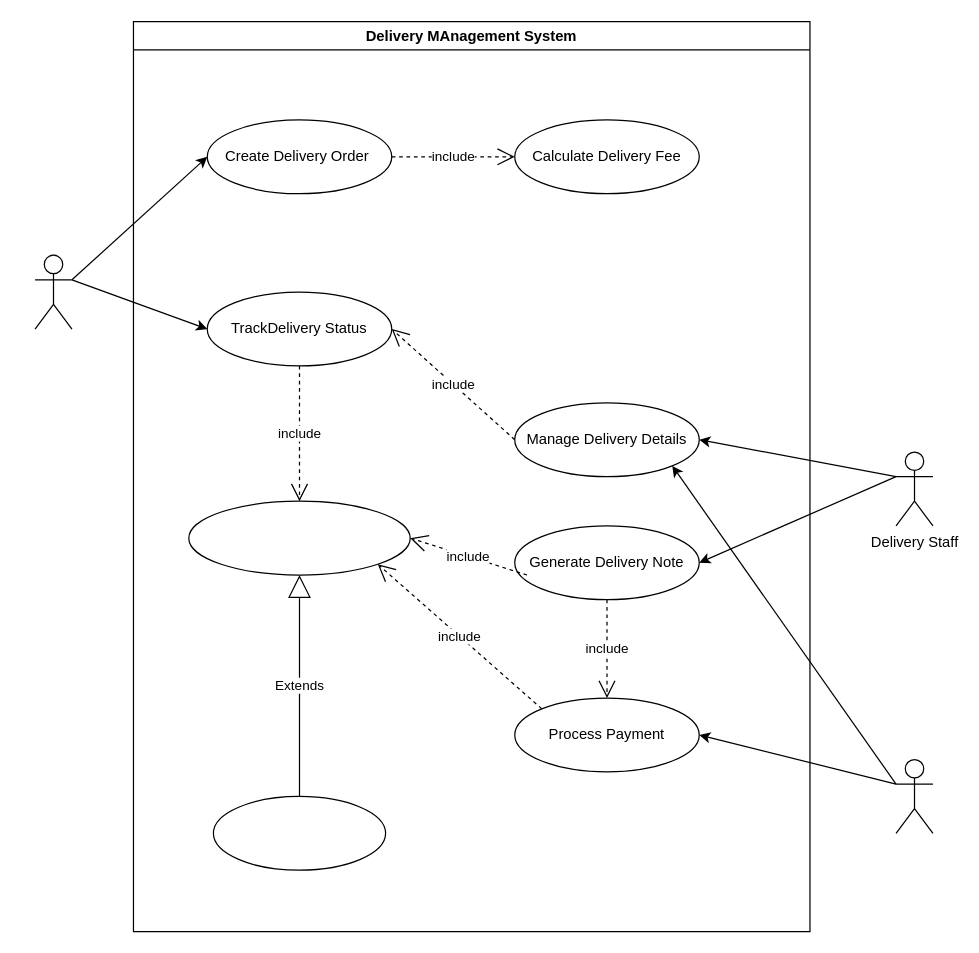
Image size: 979x953. Some labels were removed from this diagram. The box of each missing label's shape, as (x1, y1, x2, y2) in pixels:
Admin: (895, 758, 933, 833)
Ckeck Customer Information: (188, 500, 410, 575)
Customer: (34, 254, 72, 329)
System Database: (212, 795, 386, 870)
